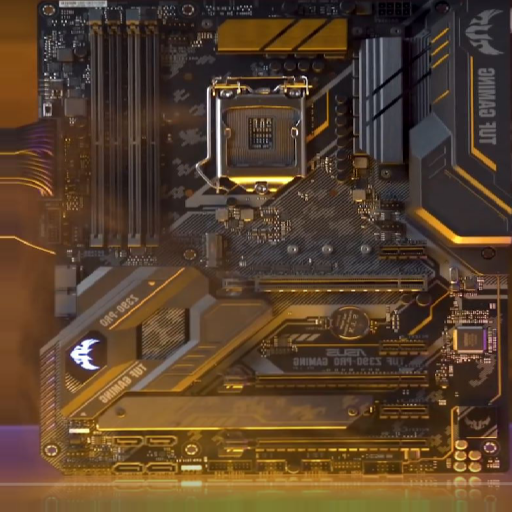CPU: (215, 76, 310, 195)
GPU: (221, 432, 428, 460), (219, 273, 430, 296), (219, 370, 431, 392)
MOTHERBOARD: (37, 1, 512, 478)
RAM: (87, 8, 165, 252)
SSD: (201, 232, 226, 270)
